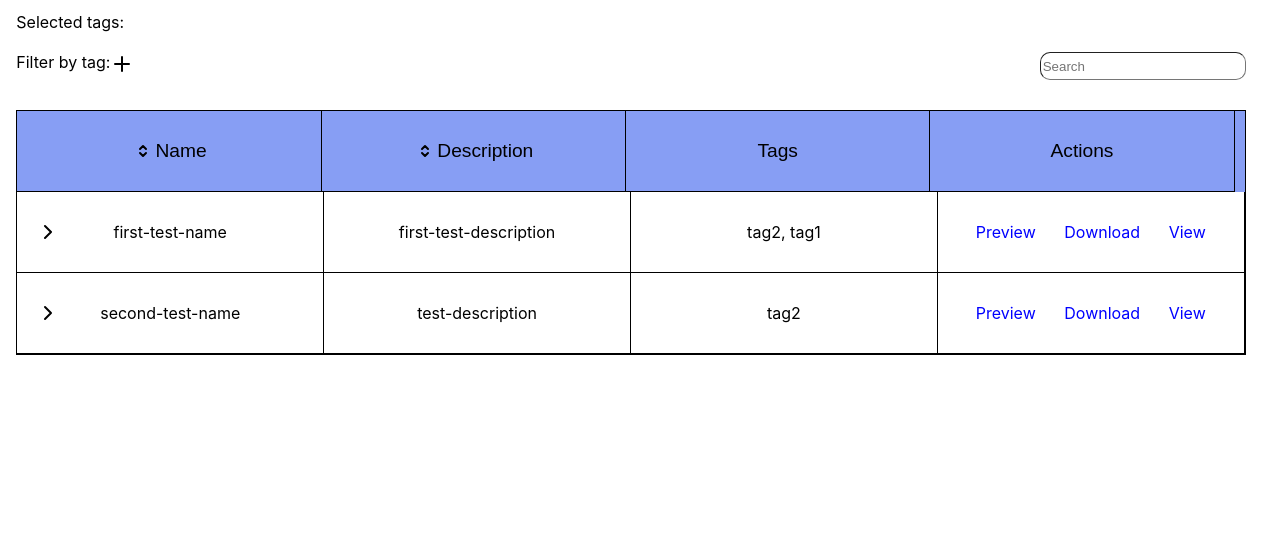
Scenario: model expanding › model history should be displayed on expand click and closed when clicked again
This screenshot has width=1263, height=536.
What coordinates should you click on to do the following:
click the button with alt text "Expand" next to "first-test-name"
I would click on:
 (48, 232)
Its box is [36,220,60,244].
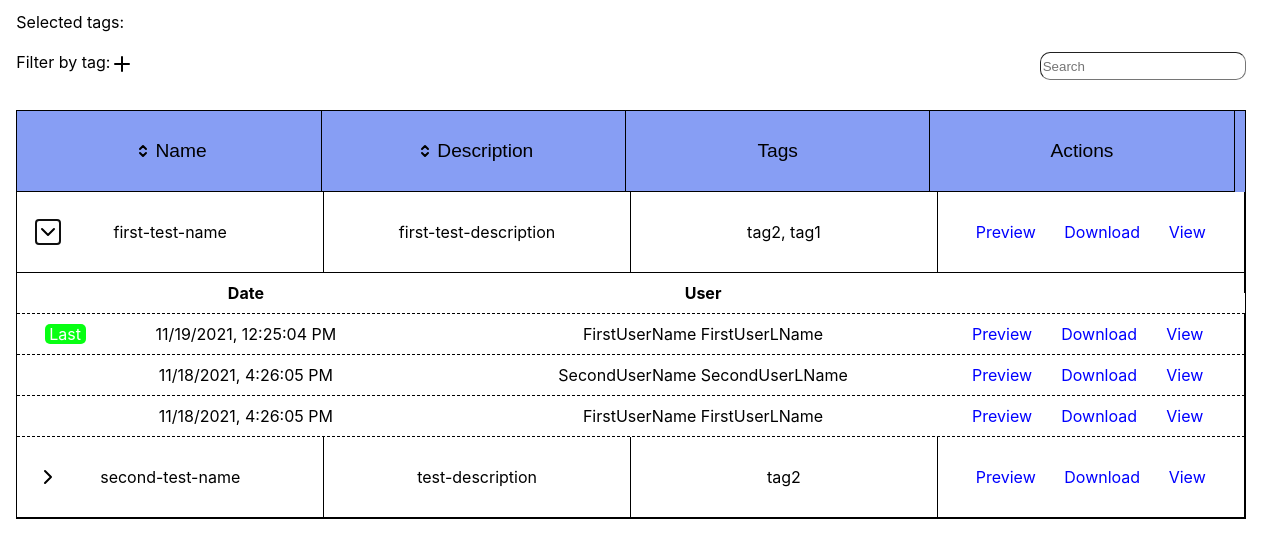
Result: the column heading "Date" is shown at [17,273,474,313]
Result: the column heading "User" is shown at [474,273,932,313]
Result: the text "Last" is shown at [45,324,86,344]
What coordinates should you click on to do the following:
click the button with alt text "Expand" next to "first-test-name"
I would click on:
 (48, 232)
Its box is [36,220,60,244].
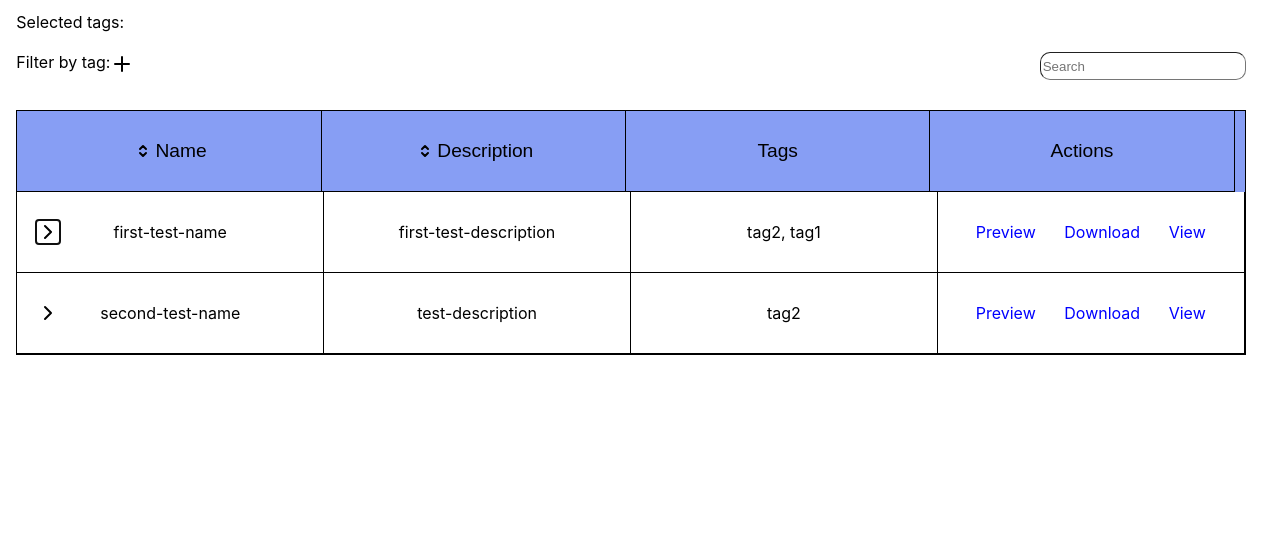
Result: the column heading "Date" is gone
